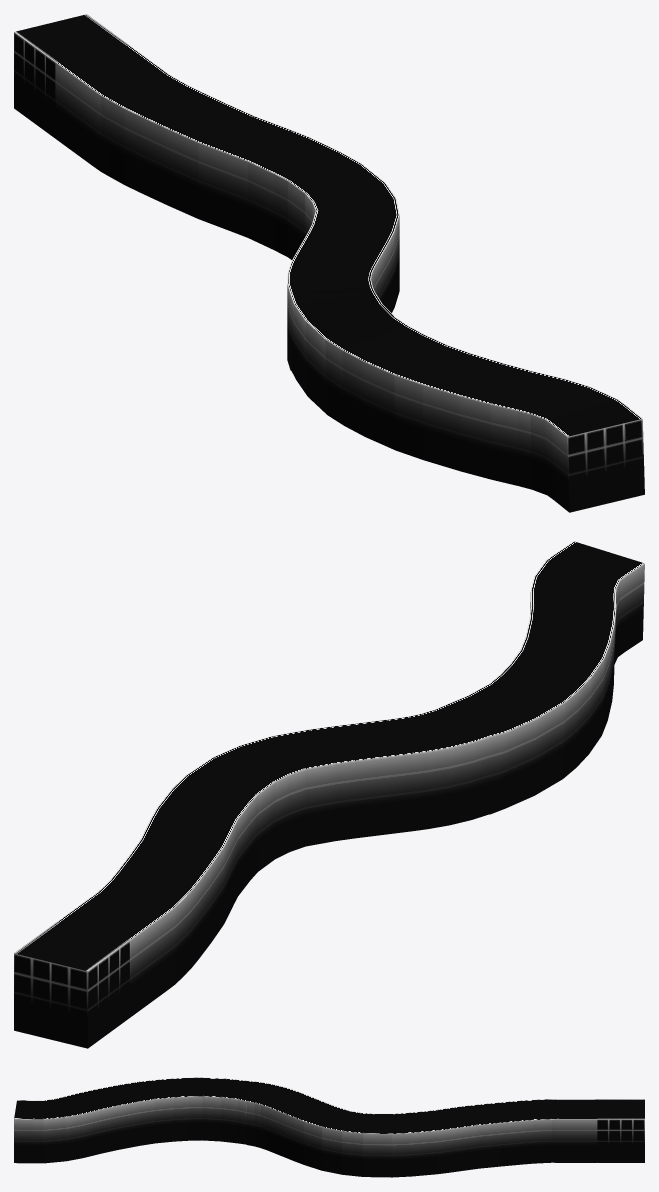
File: scifi_cube_slope_long2.dae
3 views of the same model, one above another, from view 1: azimuth 30°, elevation 25°; view 2: azimuth 150°, elevation 25°; view 3: azimuth 270°, elevation 25° (orthographic). The views are drawn at different scales.
Visible parts, largest first — view 1: Cube; view 2: Cube; view 3: Cube.
Boxes of the visible parts, box(x1,y1,x2,y2) form: Cube: box(14, 14, 644, 512); Cube: box(14, 541, 644, 1048); Cube: box(14, 1077, 644, 1177).
Size of the model in its own units: 5.64 by 26.3 by 2.06.
2 materials, 2 textured.
